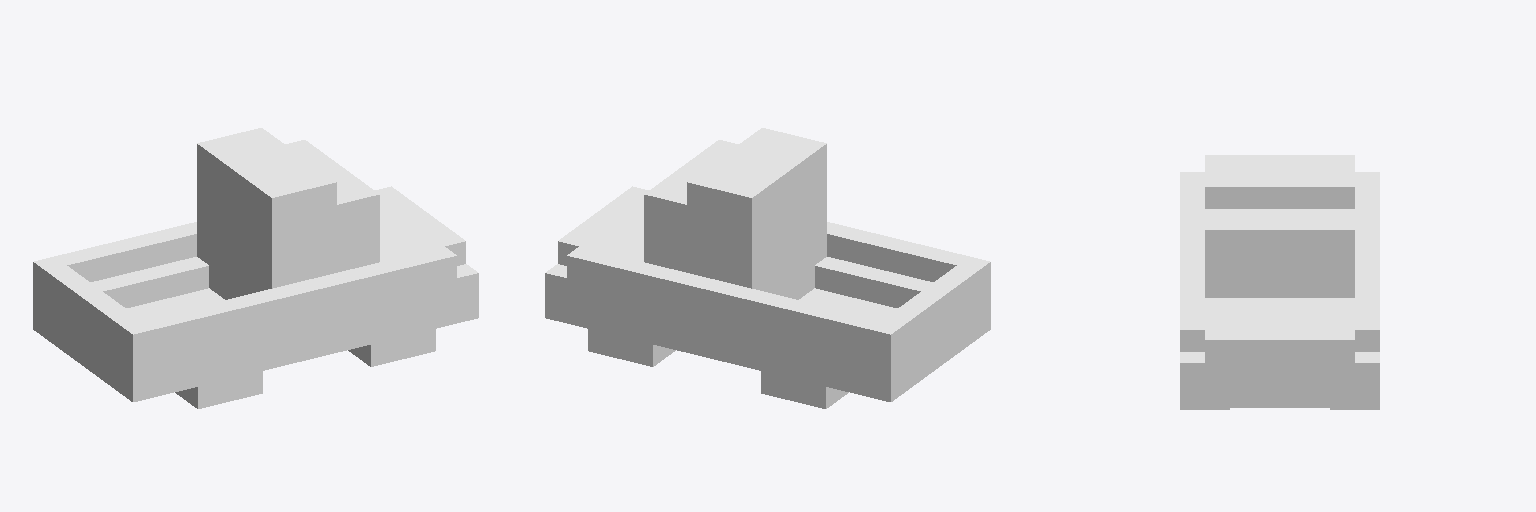
The model's file is car 1.obj.
3 renders of one model, left to right at view 1: azimuth 30°, elevation 25°; view 2: azimuth 150°, elevation 25°; view 3: azimuth 270°, elevation 25°, orthographic.
Size of the model in its own units: 16 by 8 by 8.